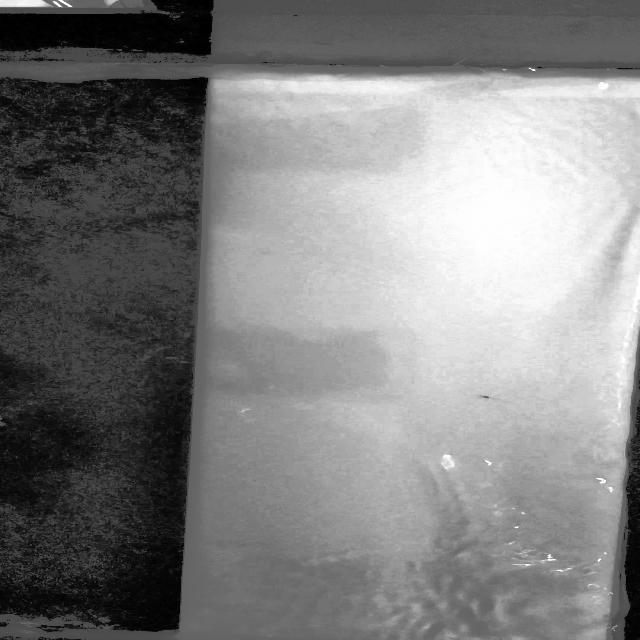shrimp: (474, 391, 506, 406)
